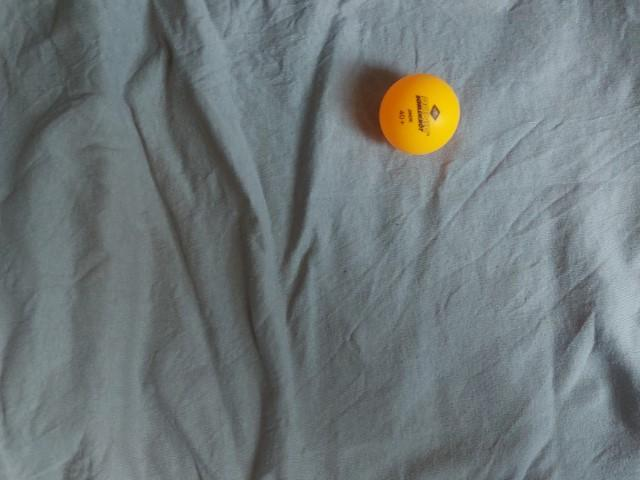oball: (372, 68, 470, 163)
